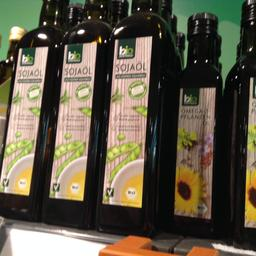oil: (94, 0, 174, 233), (47, 0, 112, 227), (0, 0, 63, 218), (170, 12, 224, 236)
